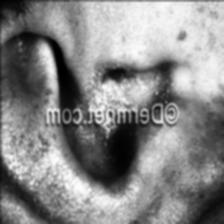Non-Cancerous Skin Condition: (0, 130, 130, 209), (68, 16, 172, 103), (181, 0, 224, 155)
